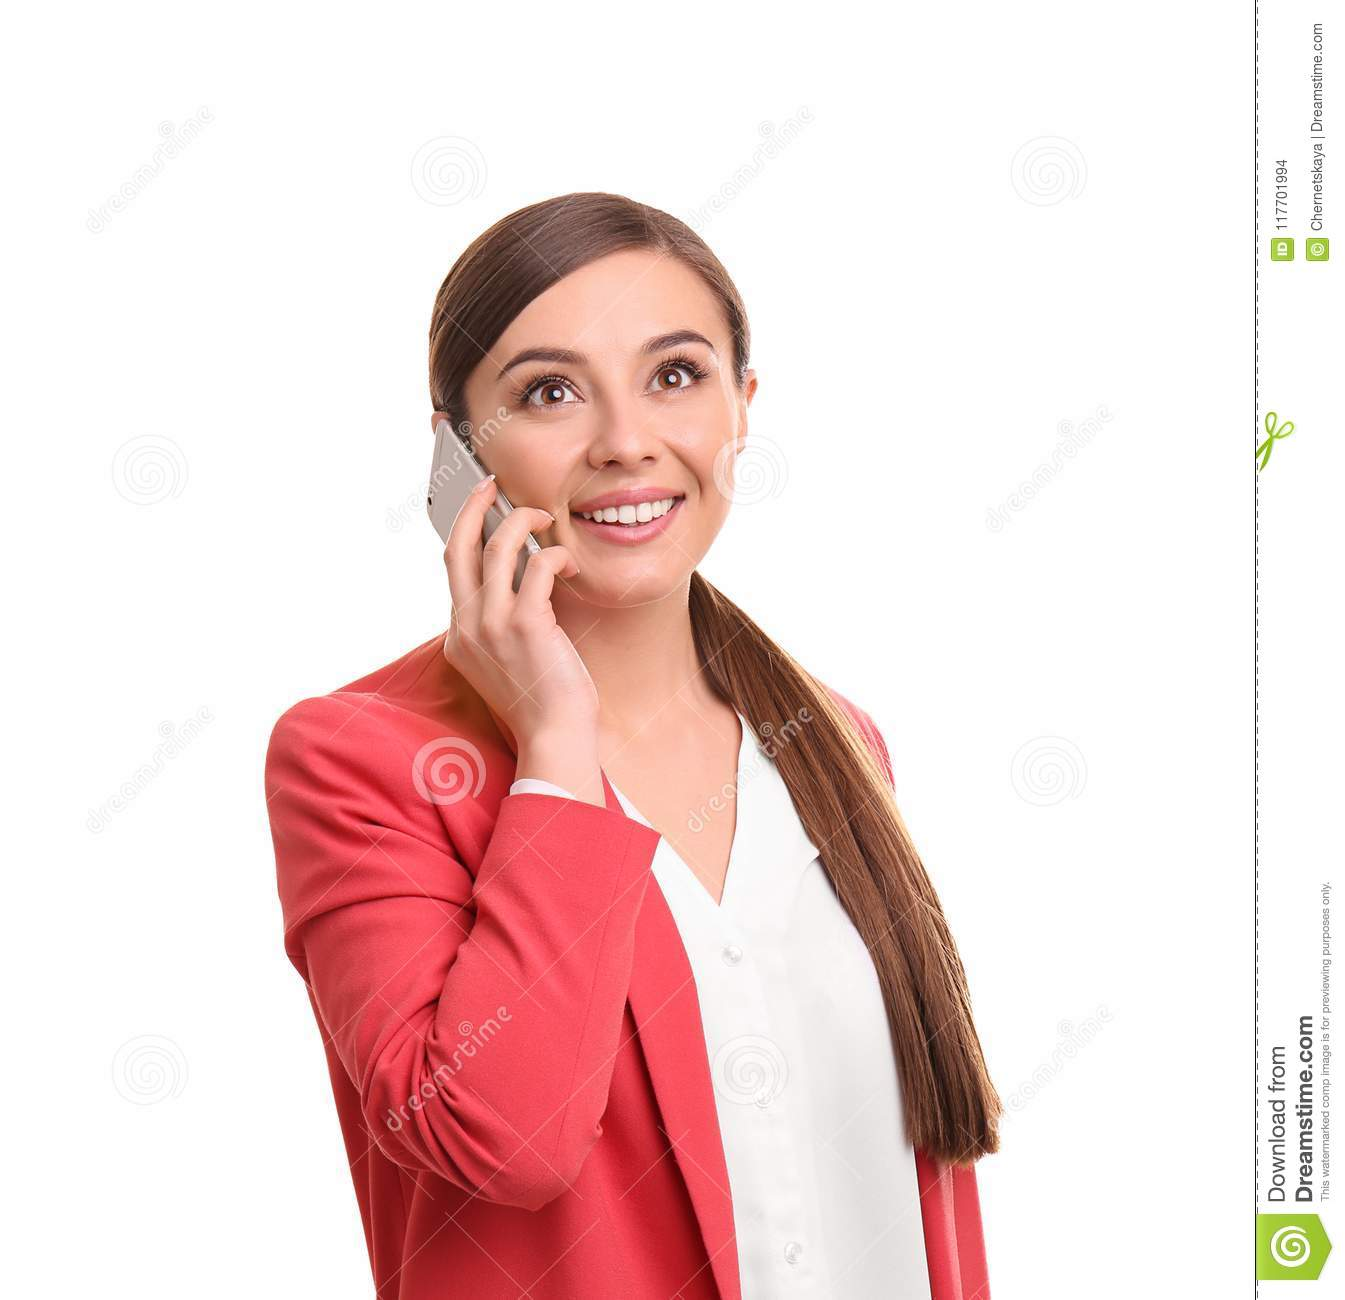phone: (416, 418, 557, 631)
talk: (411, 320, 727, 761)
